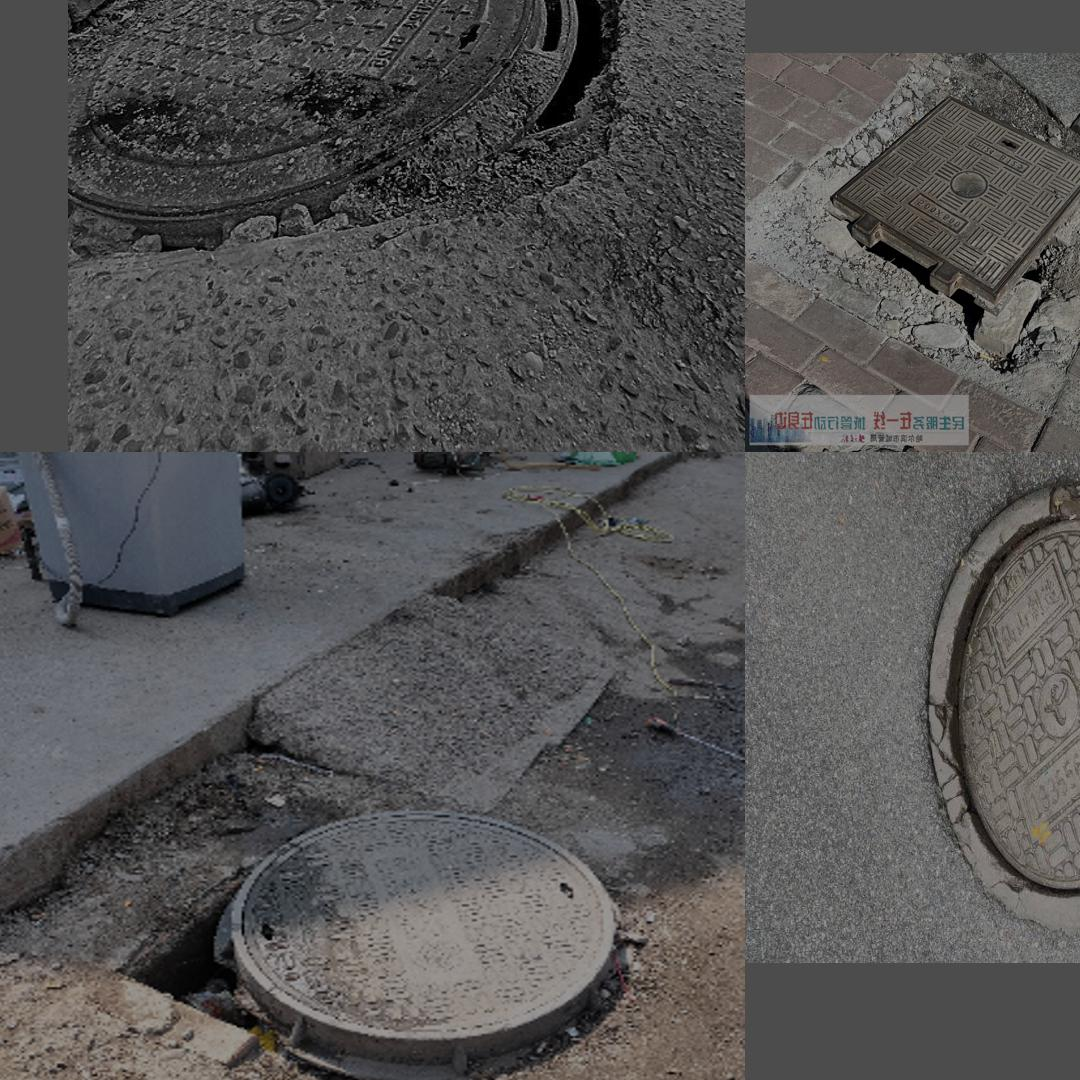circle: (69, 0, 654, 370), (155, 791, 638, 1080), (770, 93, 1080, 371), (888, 480, 1080, 926)
